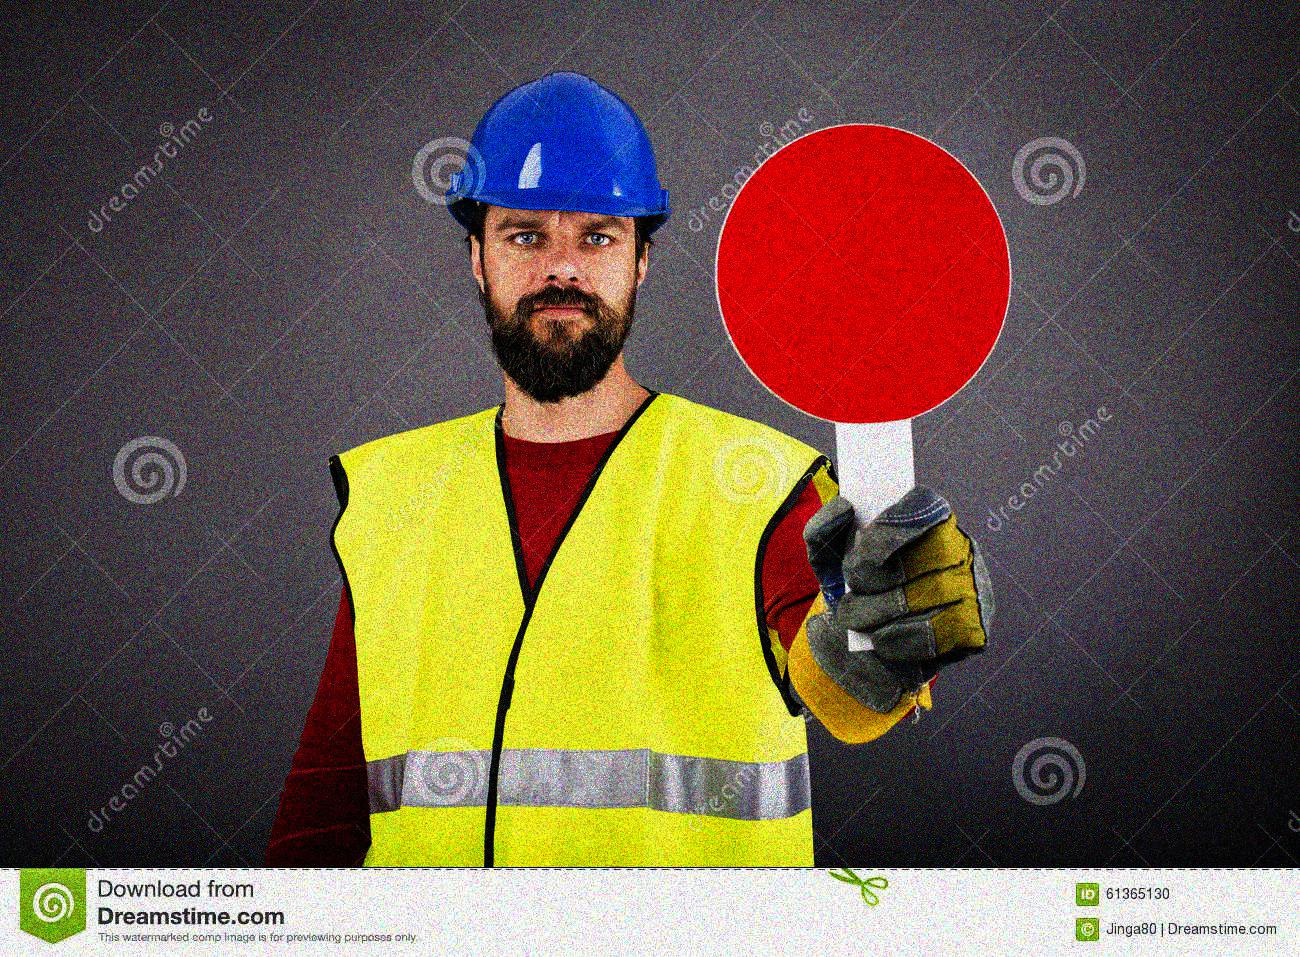helmet: (448, 65, 675, 382)
